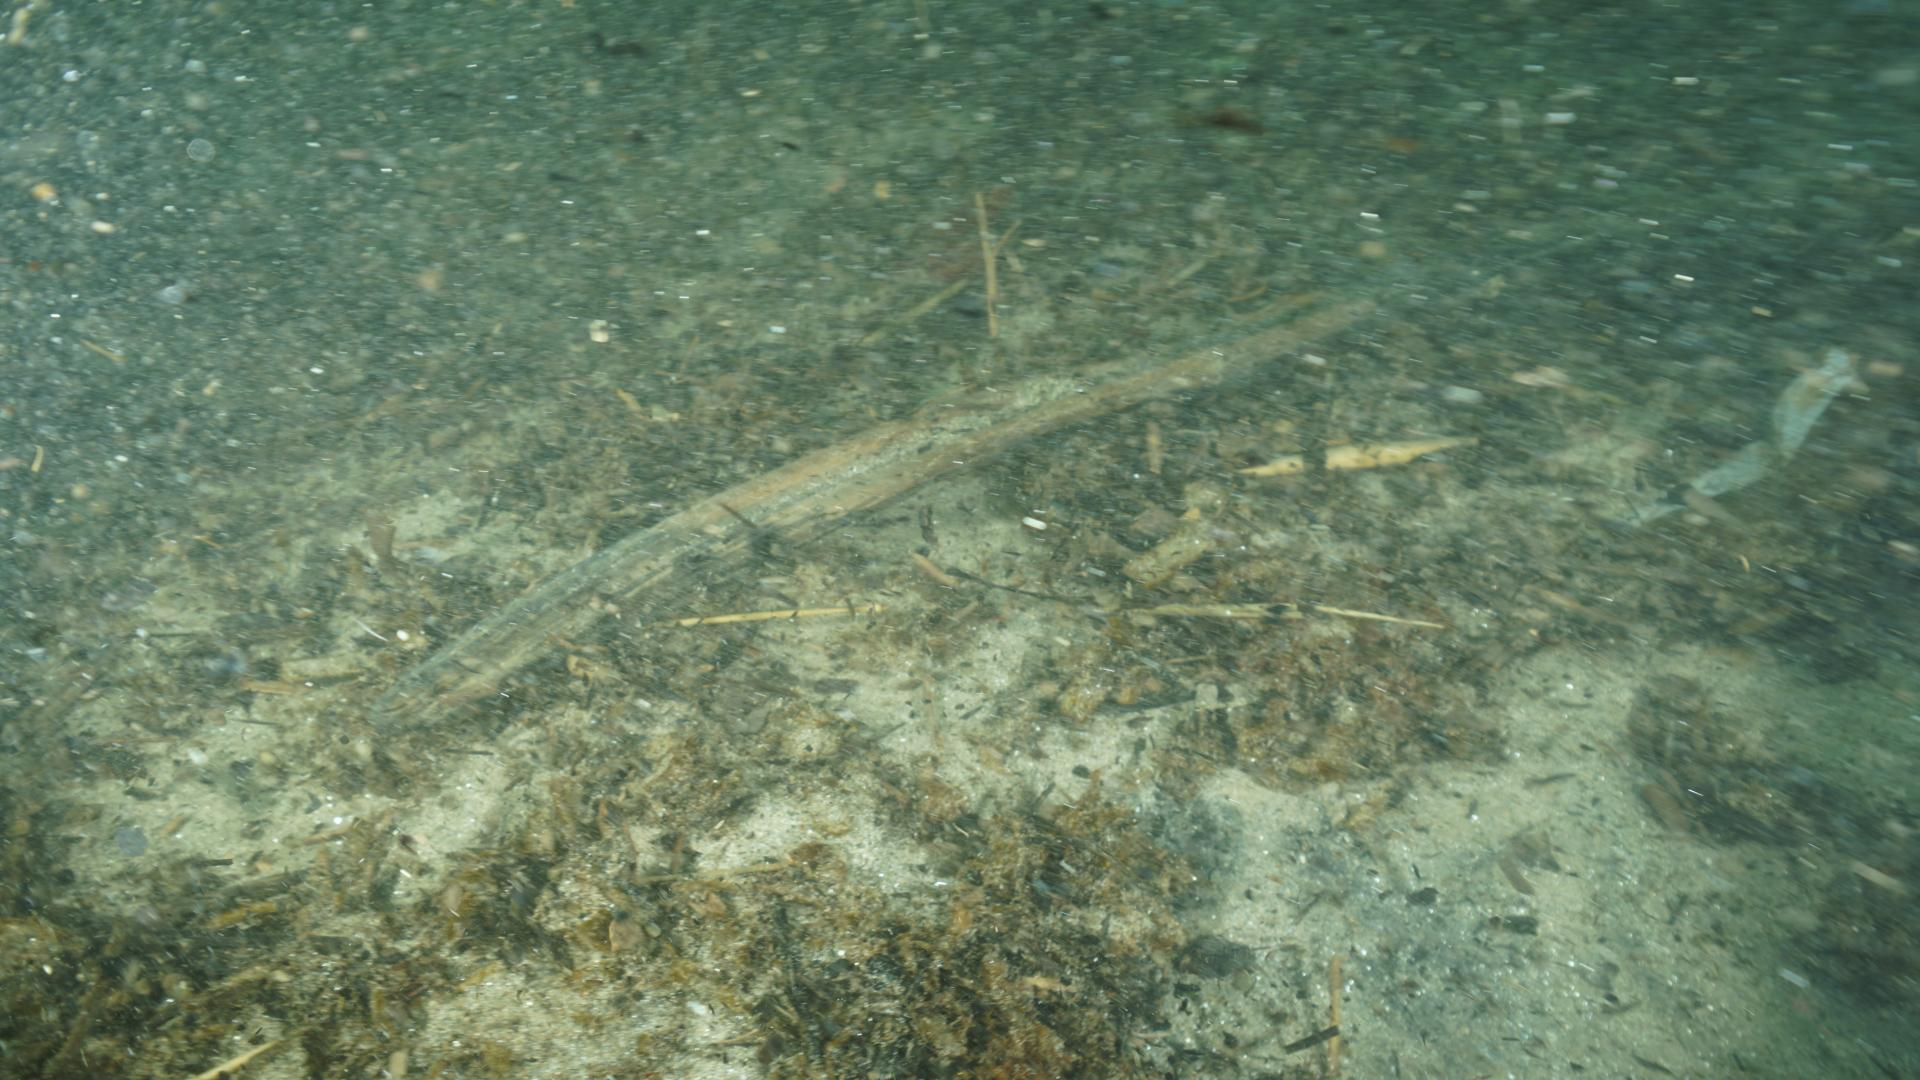wood: (356, 280, 1394, 745)
